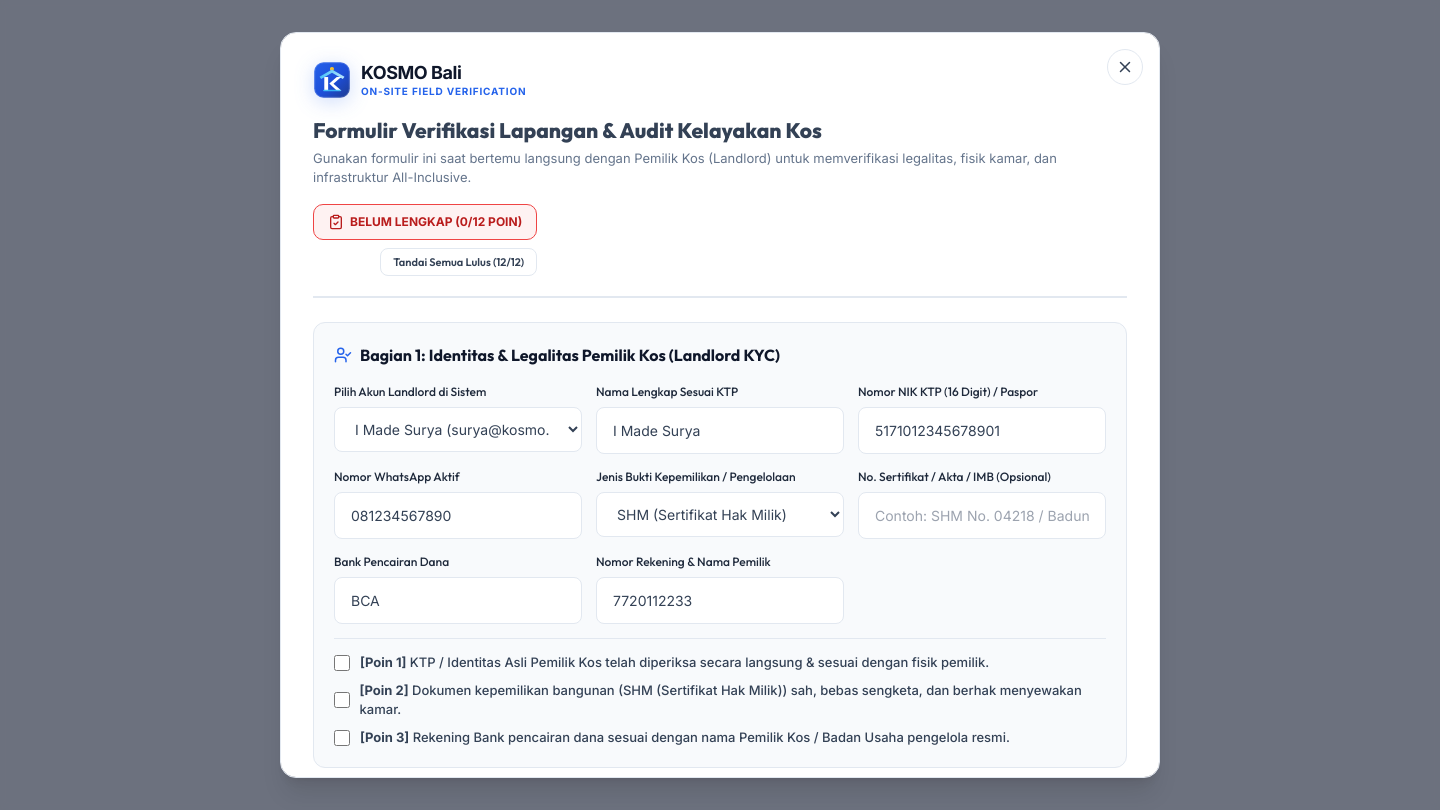
FieldVerificationModal Component › auto-populates landlord KYC and bank details when switching the selected landlord
Select "Ni Luh Putu (putu@kosmo.id)" in the dropdown with test id "verify-landlord-select" at (458, 430), box [334, 407, 582, 452]
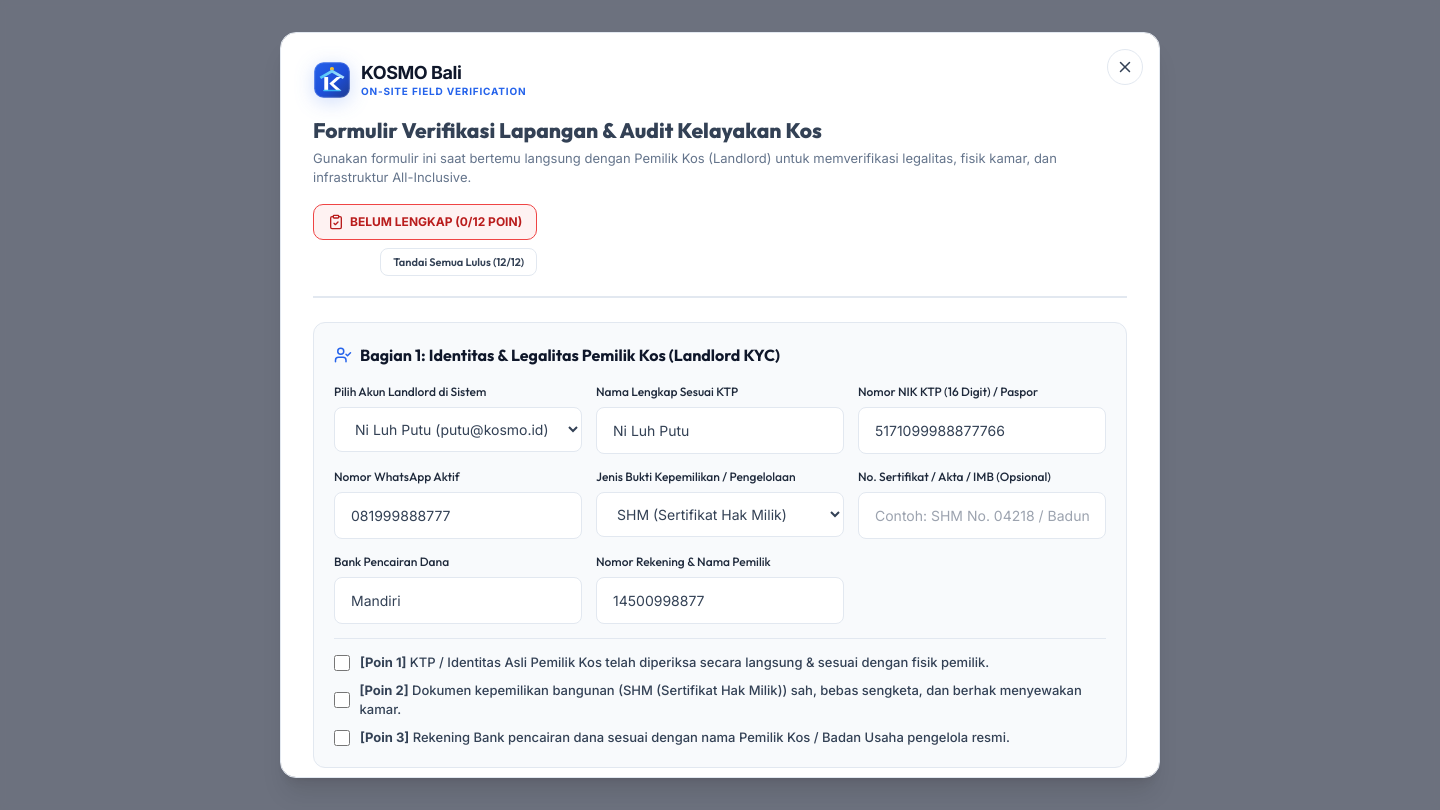
Expected: the 4th field showing "Mandiri" is shown, [334, 577, 582, 624]
Result: the field showing "Ni Luh Putu" below "Nama Lengkap Sesuai KTP" is shown at [596, 407, 844, 454]
Result: the field showing "081999888777" below "Nomor WhatsApp Aktif" is shown at [334, 492, 582, 539]
